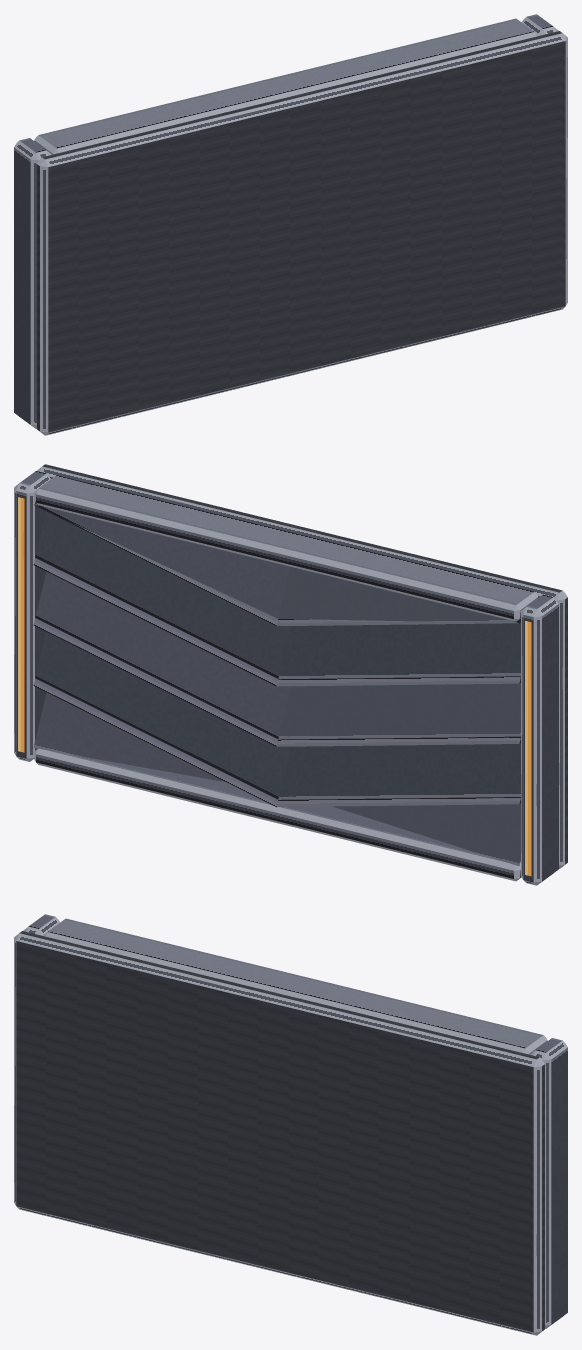
The model's file is marlit_armor8.glb.
3 views of the same model, one above another, from view 1: azimuth 30°, elevation 25°; view 2: azimuth 150°, elevation 25°; view 3: azimuth 330°, elevation 25° (orthographic).
Visible parts, largest first — view 1: marlit_armor8_body; view 2: marlit_armor8_body; view 3: marlit_armor8_body.
Part boxes in pixels (x1,y1,x2,y2): marlit_armor8_body: [14, 14, 567, 435]; marlit_armor8_body: [14, 464, 567, 885]; marlit_armor8_body: [14, 914, 567, 1335].
Bounding box in the file's own units: 4 × 2 × 0.421.
Materials: 1 (1 with a texture image).
